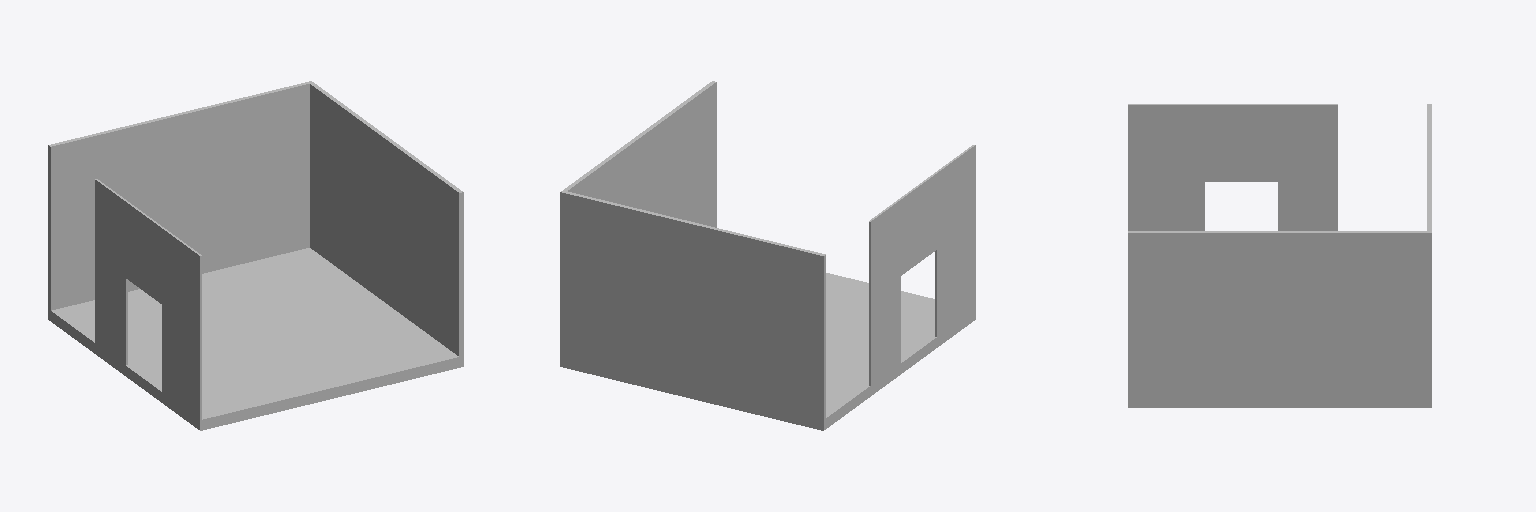
The model's file is 4x2 first (1)-6.obj.
3 renders of one model, left to right at view 1: azimuth 30°, elevation 25°; view 2: azimuth 150°, elevation 25°; view 3: azimuth 270°, elevation 25°, orthographic.
Parts seen in each view (by area): view 1: 4x2 first (1)-6; view 2: 4x2 first (1)-6; view 3: 4x2 first (1)-6.
Boxes of the visible parts, box(x1,y1,x2,y2) form: 4x2 first (1)-6: box(48, 81, 463, 430); 4x2 first (1)-6: box(560, 81, 975, 430); 4x2 first (1)-6: box(1128, 104, 1431, 407).
Size of the model in its own units: 126 by 80 by 126.